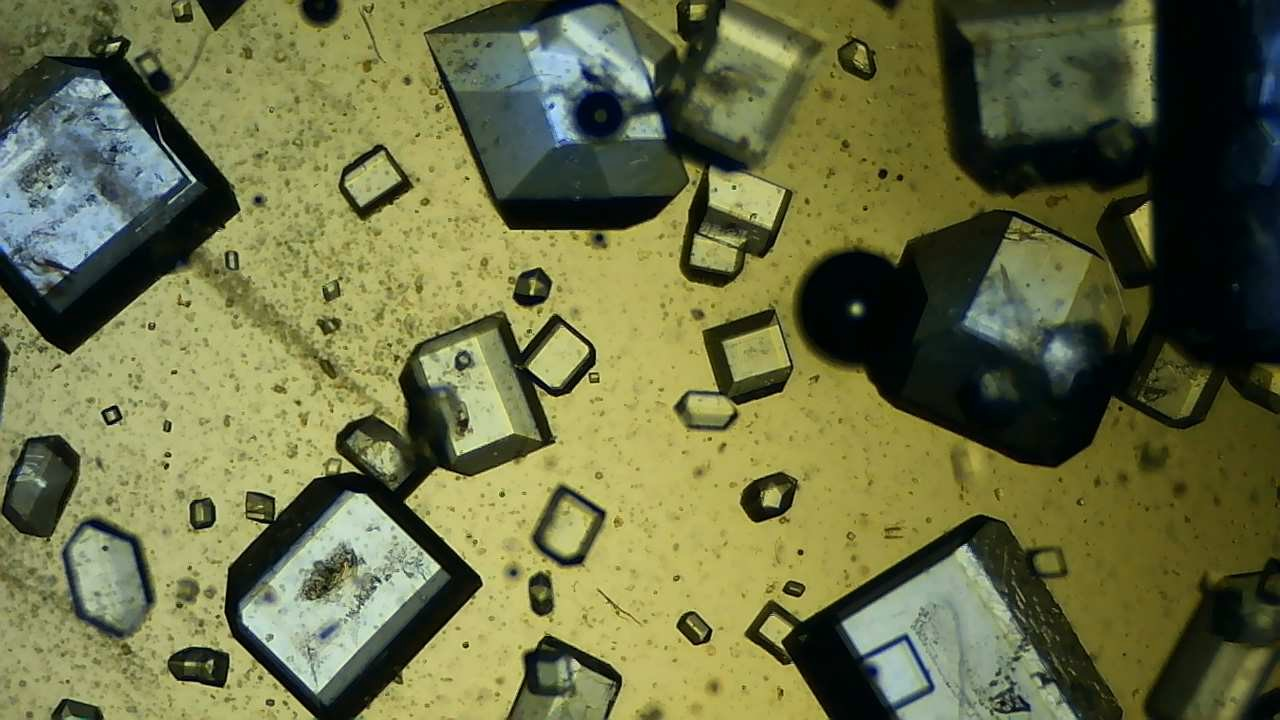crystal: (1, 49, 241, 359), (782, 513, 1126, 720), (863, 210, 1130, 468), (222, 470, 488, 720), (422, 1, 691, 233), (398, 312, 555, 478), (60, 515, 157, 642), (687, 156, 794, 260), (701, 307, 795, 406), (1, 433, 82, 538), (527, 486, 609, 571), (516, 317, 598, 399), (337, 143, 413, 223), (744, 598, 813, 667), (740, 471, 800, 526), (166, 645, 232, 690), (512, 263, 557, 311), (835, 37, 881, 80), (1023, 543, 1071, 583), (521, 570, 556, 618), (675, 609, 713, 649), (243, 486, 278, 528), (187, 497, 219, 531), (97, 406, 128, 430), (321, 278, 344, 305), (223, 248, 243, 274), (160, 418, 175, 436)
